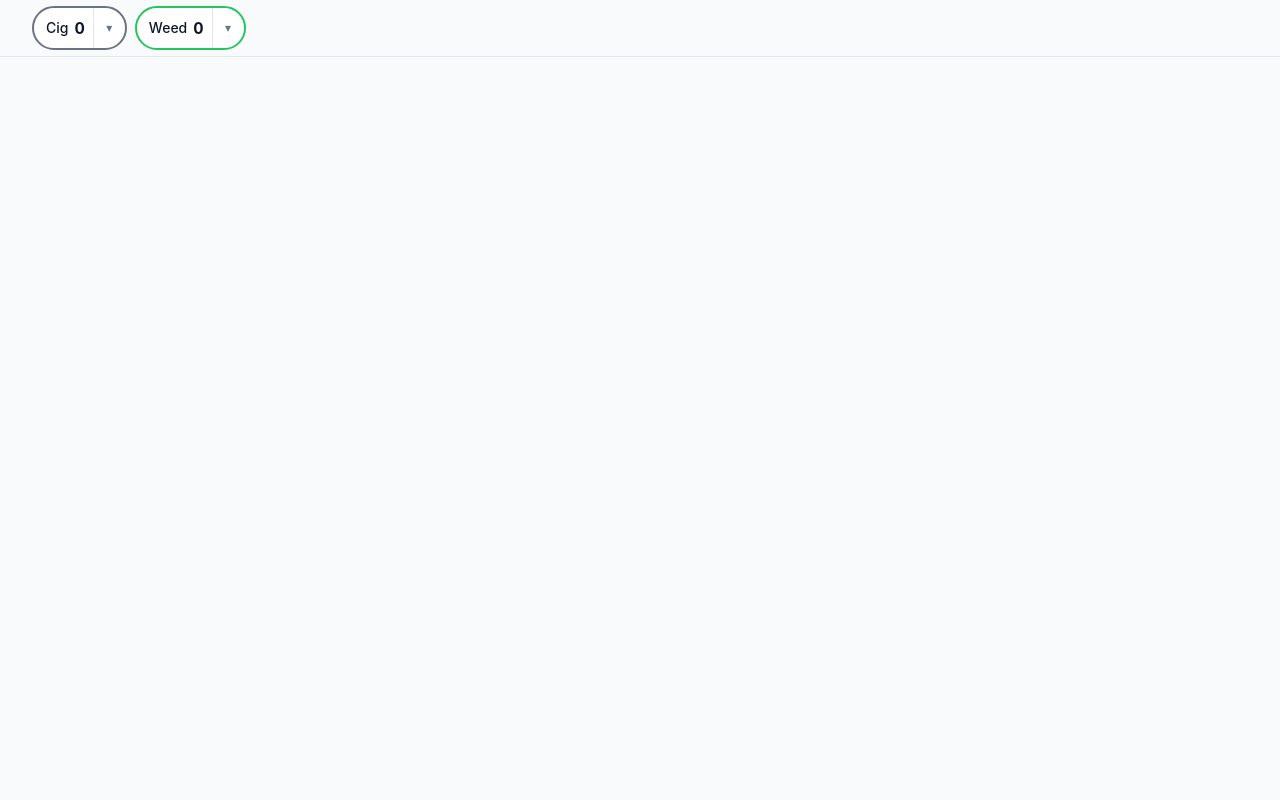
Test: counter pills › say "none yet" in the sheet for a counter that was never tapped
Click the button named "More for Weed": (228, 28) [212,8,244,48]
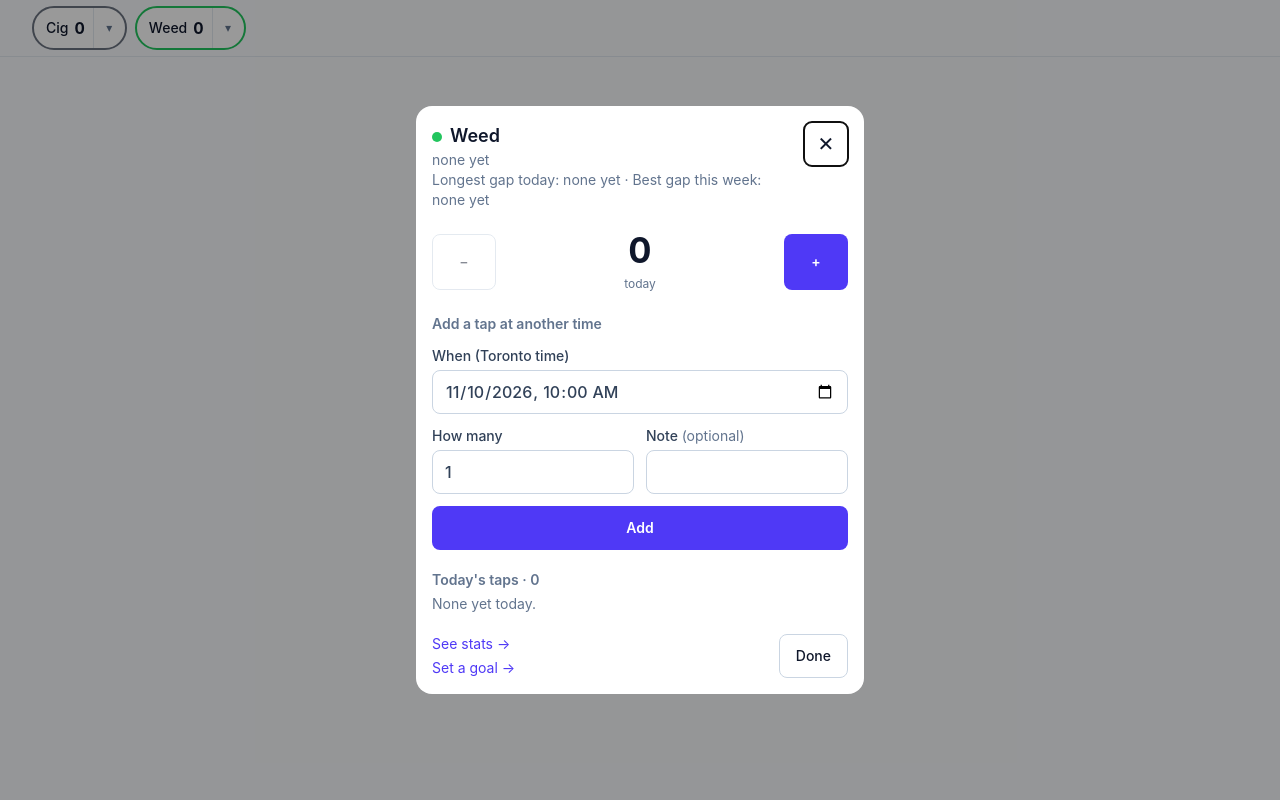
expect the text "none yet" is shown: met, box [432,151,489,168]
